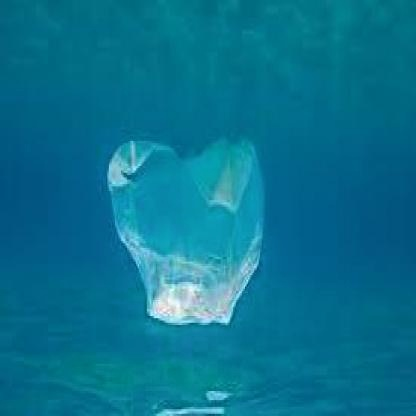pbag: (106, 136, 265, 330)
